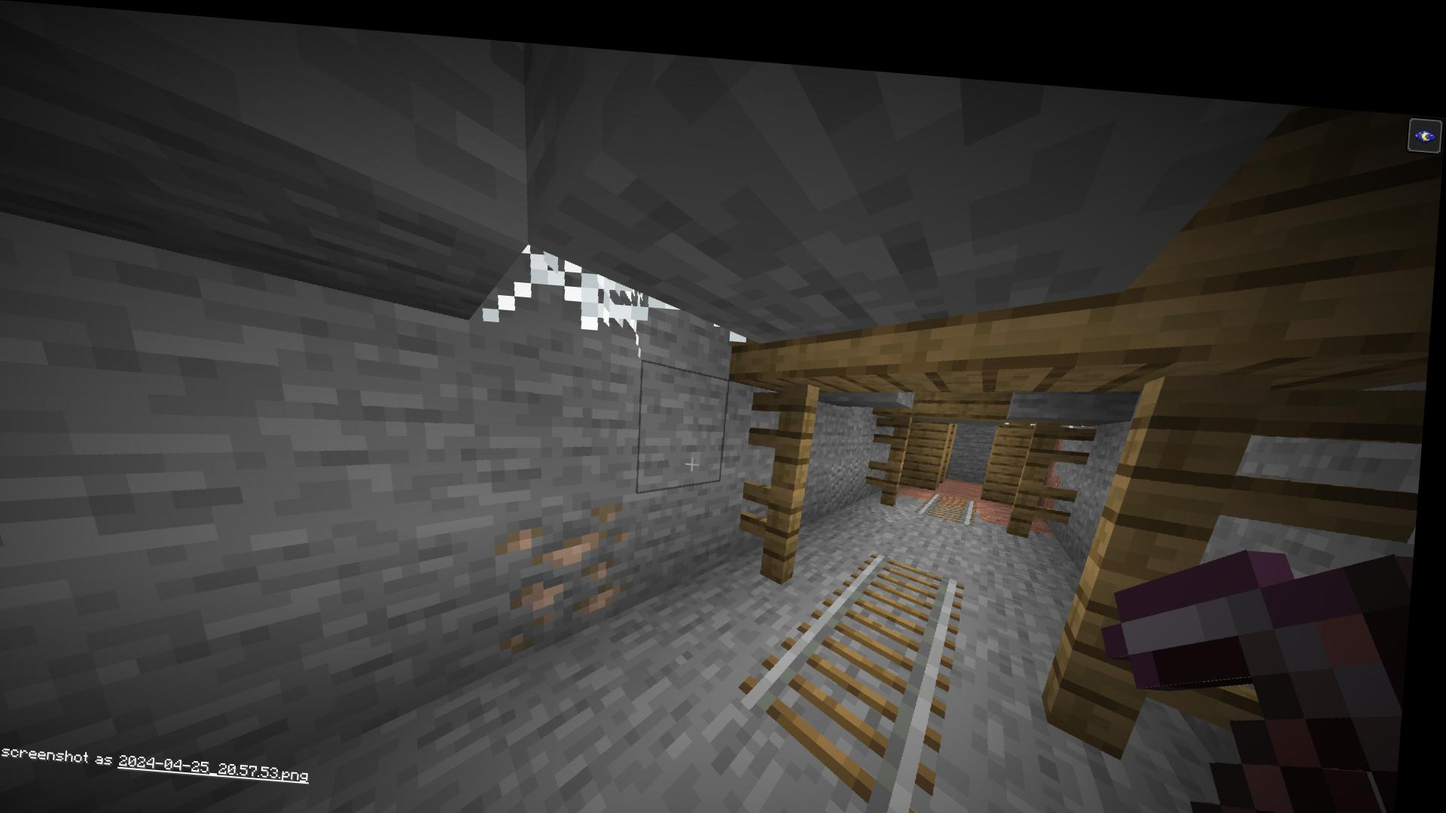iron ore: (500, 485, 647, 634)
